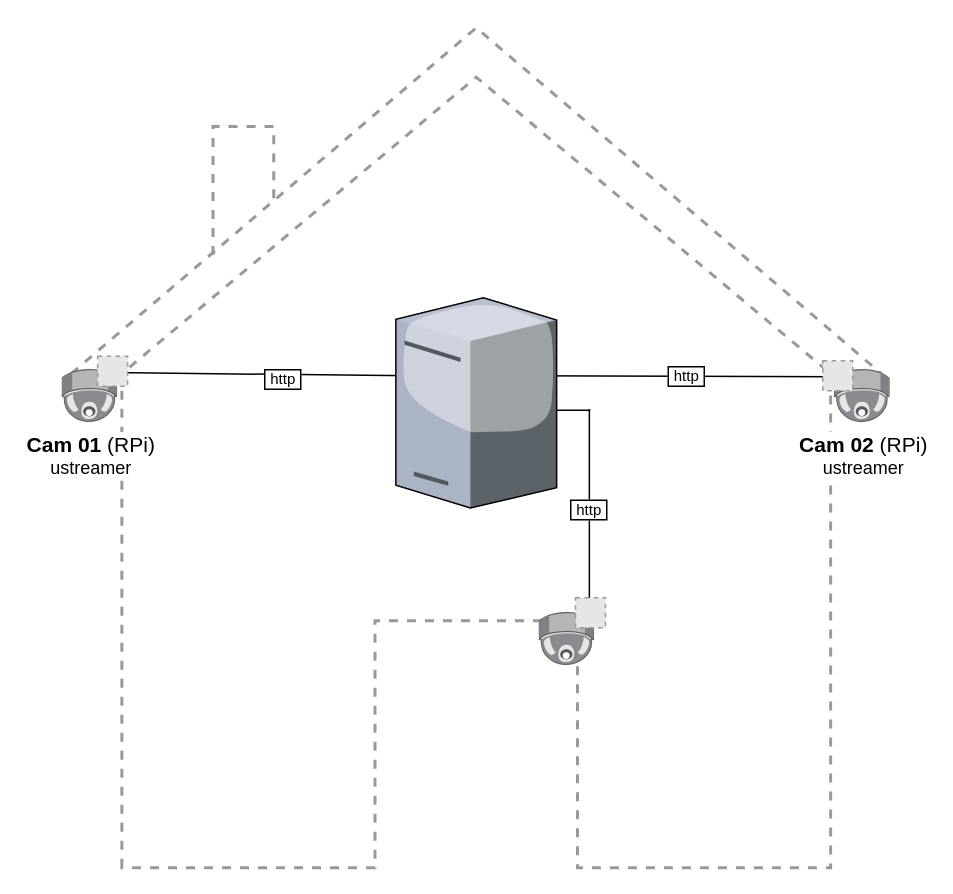
This 953x894 diagram has some shape labels left out. Grey dashed boxes stand in for pictures. Here are the shapes that lost their labels. From the top down, the centre of each, then its label:
the point at 475,402: Serveur Motion Motion-UI (nginx+PHP)
the point at 566,638: Cam 03 (RPi) ustreamer
